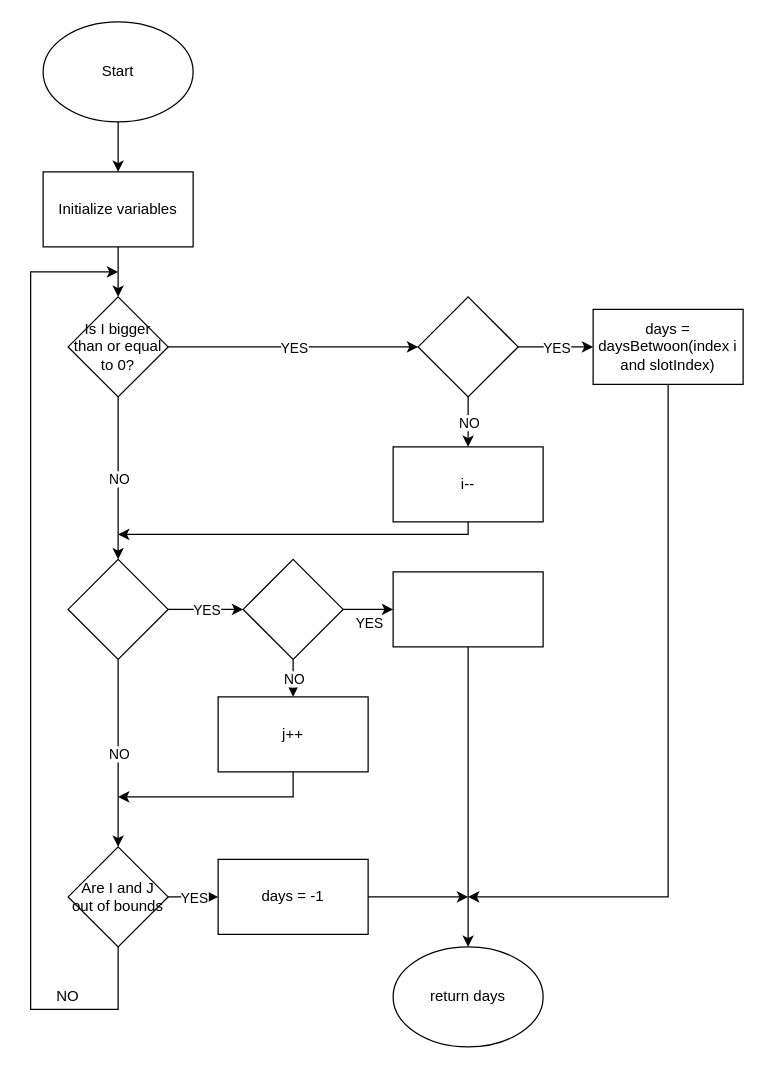
This 765x1069 diagram has some shape labels left out. Here are the shapes that lost their labels. From the top down, the centre of each, then its label:
At [467,346]: "Is this the correct day?".
At [117,608]: "Is J smaller than slotLen?".
At [292,608]: "is it this the correct day?".
At [467,609]: "days = daysBetween(index j and slotIndex)".
